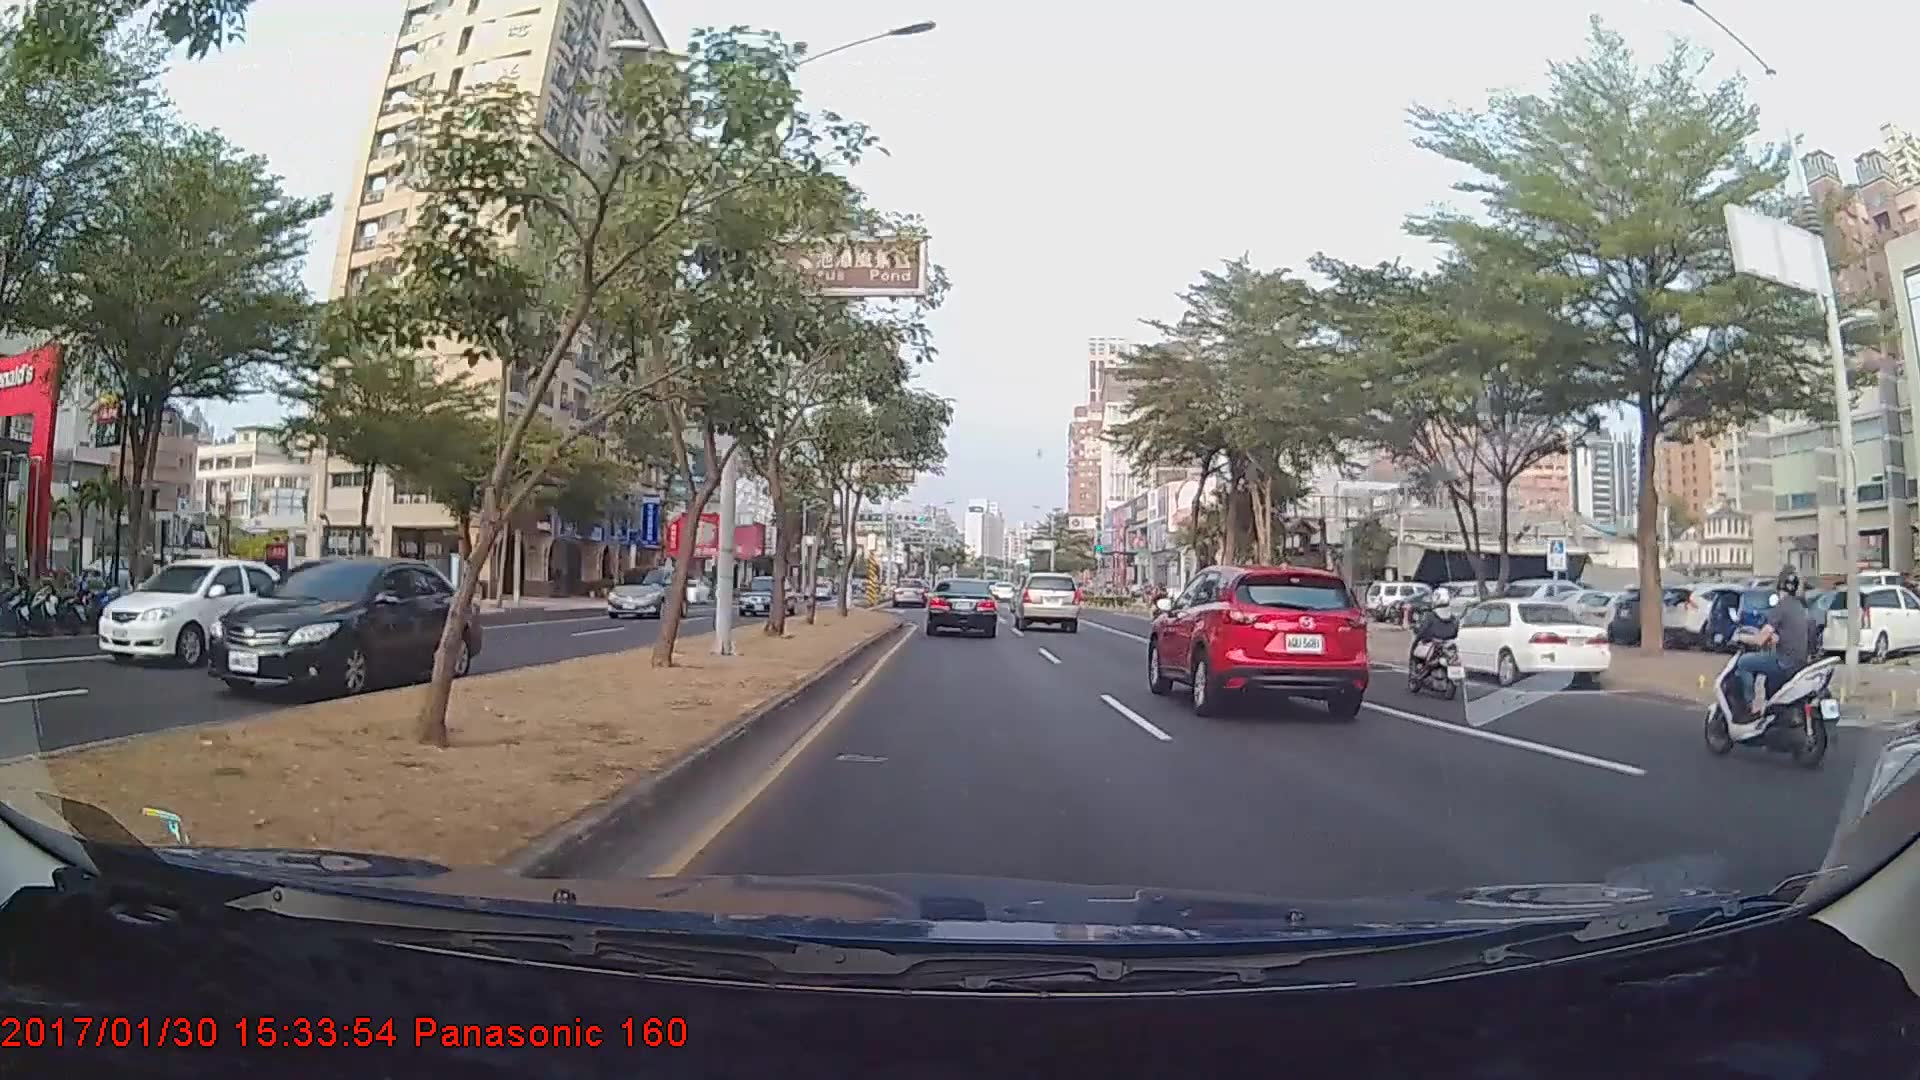rider: (1706, 555, 1836, 767), (1394, 585, 1472, 704)
vehicle: (206, 555, 480, 699), (1145, 565, 1367, 723), (96, 556, 298, 667), (1425, 596, 1613, 687), (1817, 582, 1916, 665), (603, 563, 688, 619), (925, 576, 998, 637), (1012, 570, 1081, 632), (735, 573, 797, 615), (667, 577, 710, 604), (891, 578, 926, 608)
